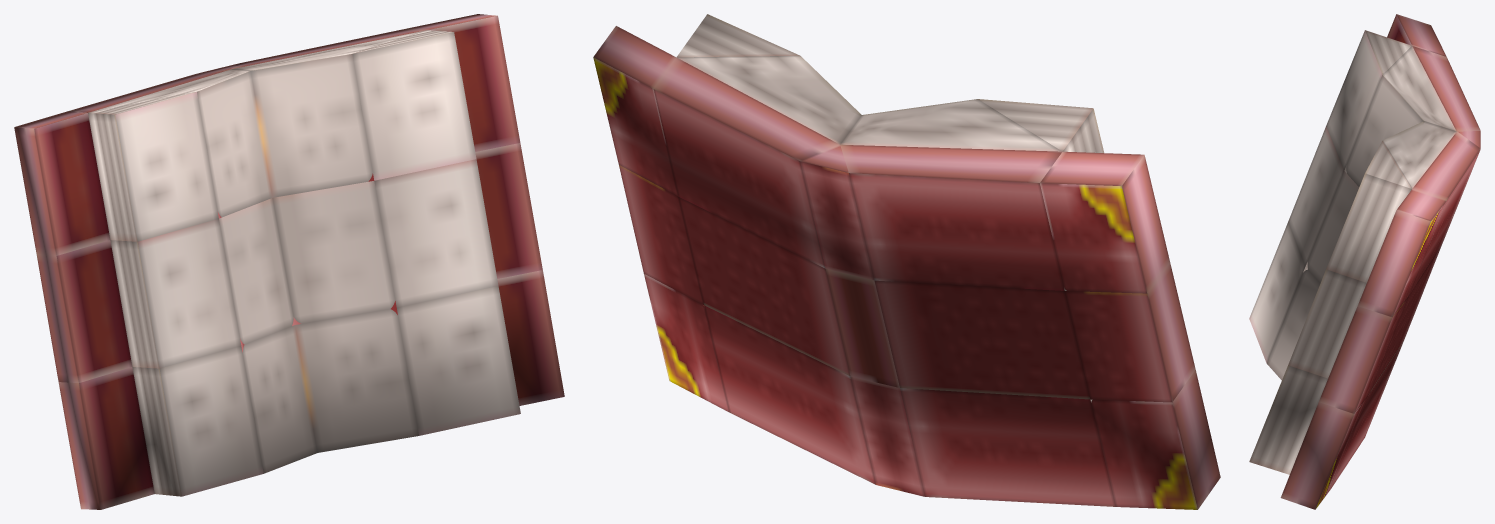
3 views of the same model, side by side, from view 1: azimuth 30°, elevation 25°; view 2: azimuth 150°, elevation 25°; view 3: azimuth 270°, elevation 25° (orthographic). The views are drawn at different scales.
Parts seen in each view (by area): view 1: T1L1M009_1; view 2: T1L1M009_1; view 3: T1L1M009_1.
Boxes of the visible parts, bbox=[...] form: T1L1M009_1: bbox=[14, 14, 564, 509]; T1L1M009_1: bbox=[593, 14, 1220, 509]; T1L1M009_1: bbox=[1249, 14, 1480, 509].
Bounding box in the file's own units: 0.5479 × 0.4258 × 0.2734.
